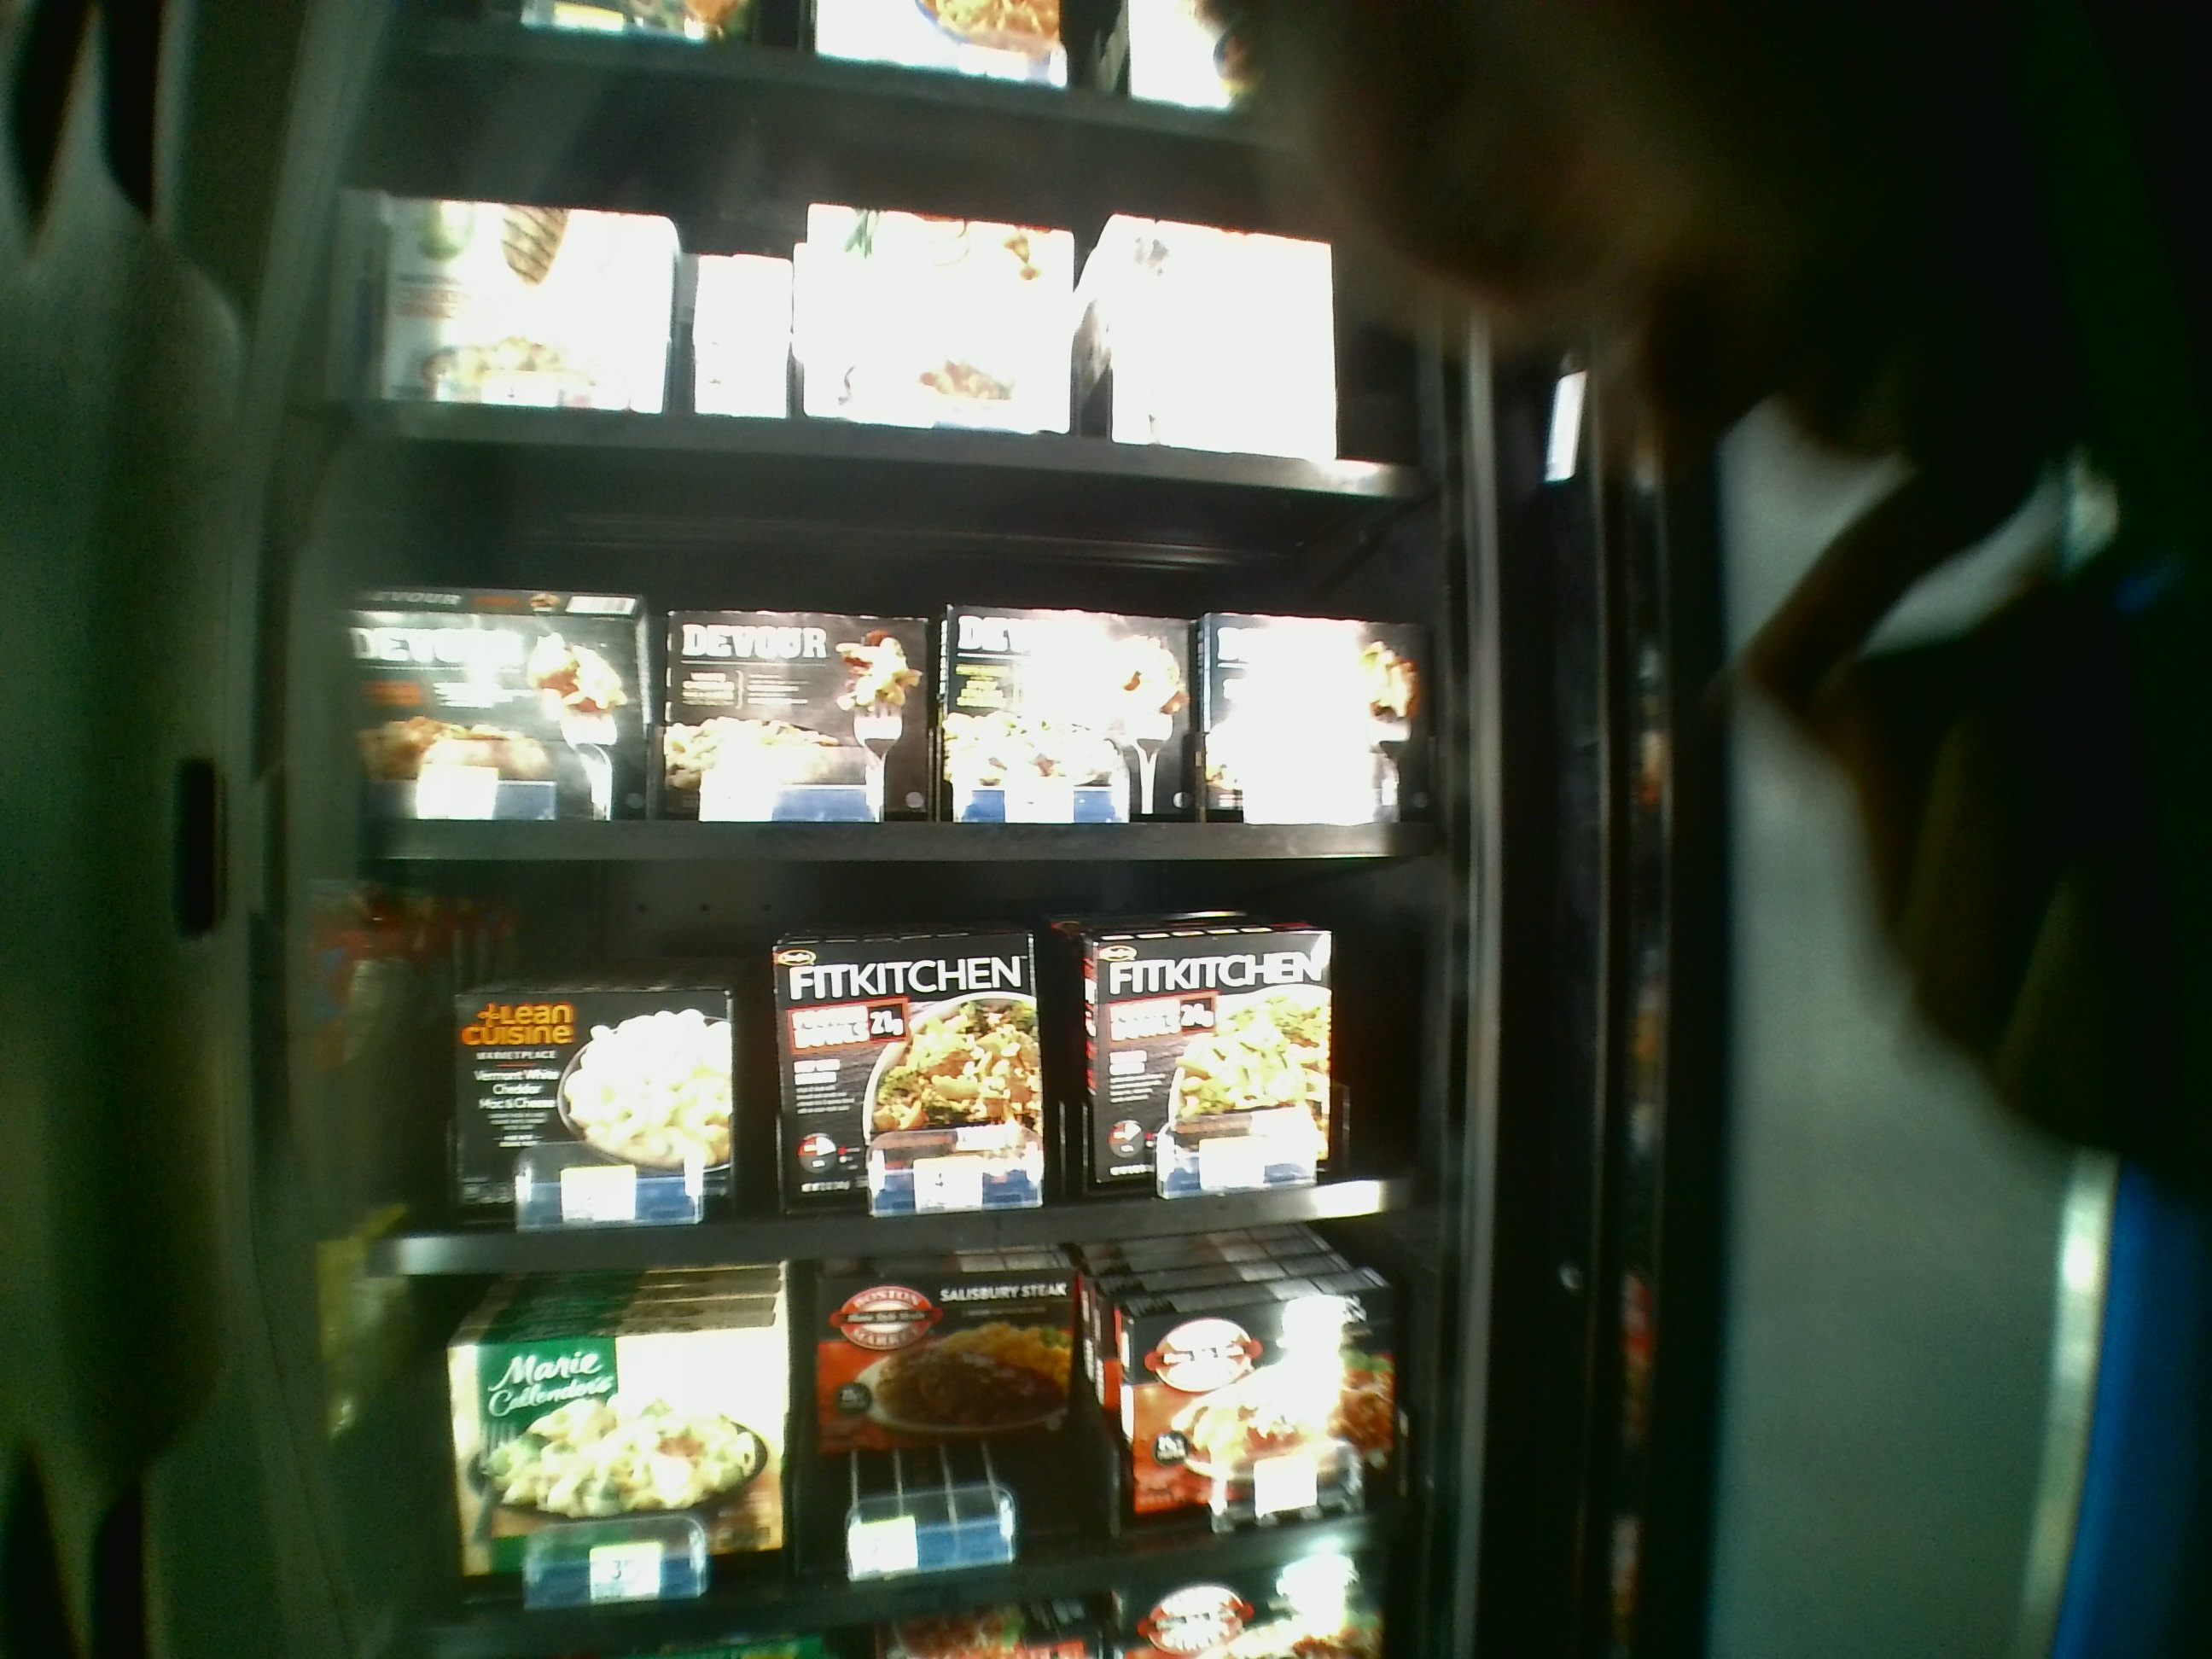shelf: (348, 441, 1440, 863), (355, 877, 1435, 1279)
